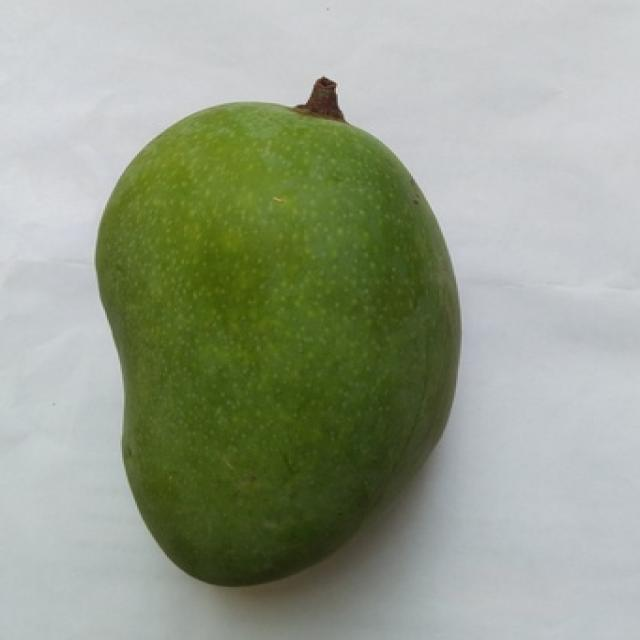Mango: (98, 103, 456, 584)
